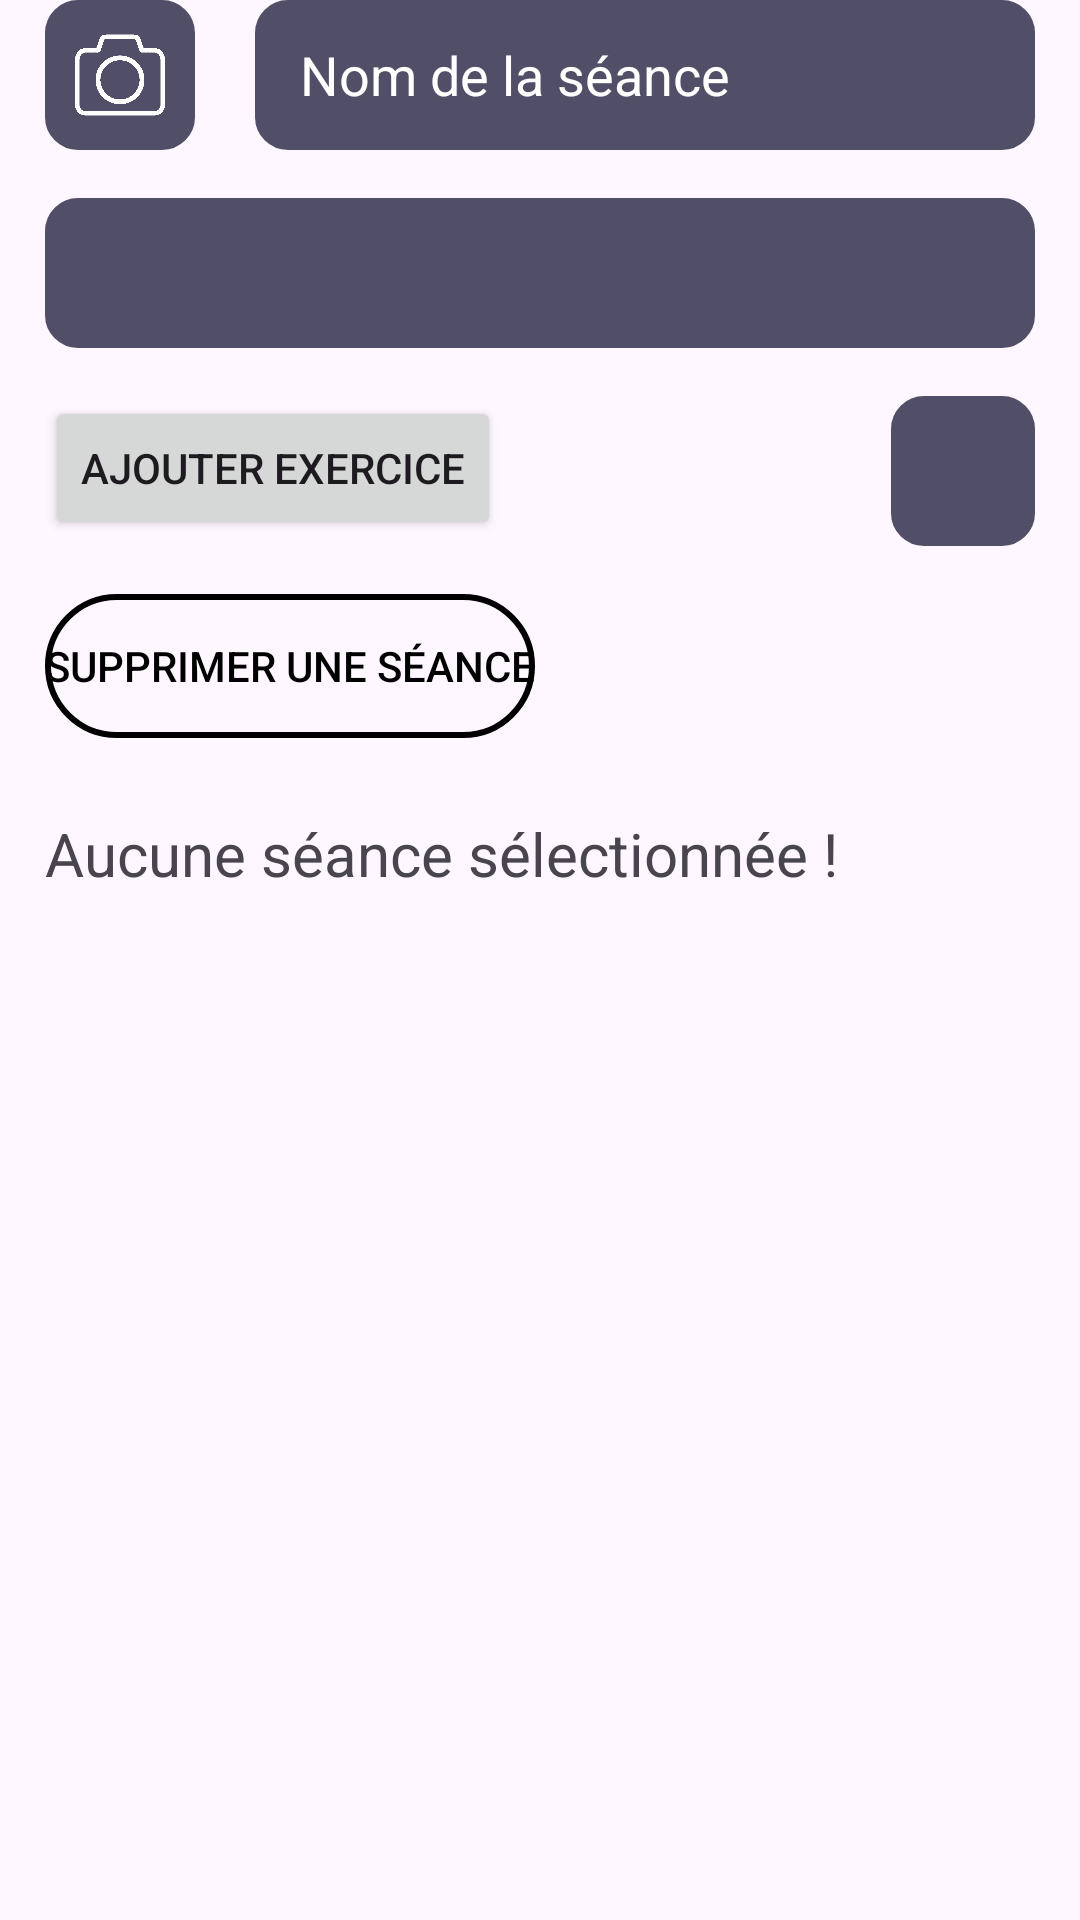

Where to tap for icons on this 1080*1920 app screen, as (x,y):
Selecteur photo: (120,75)
